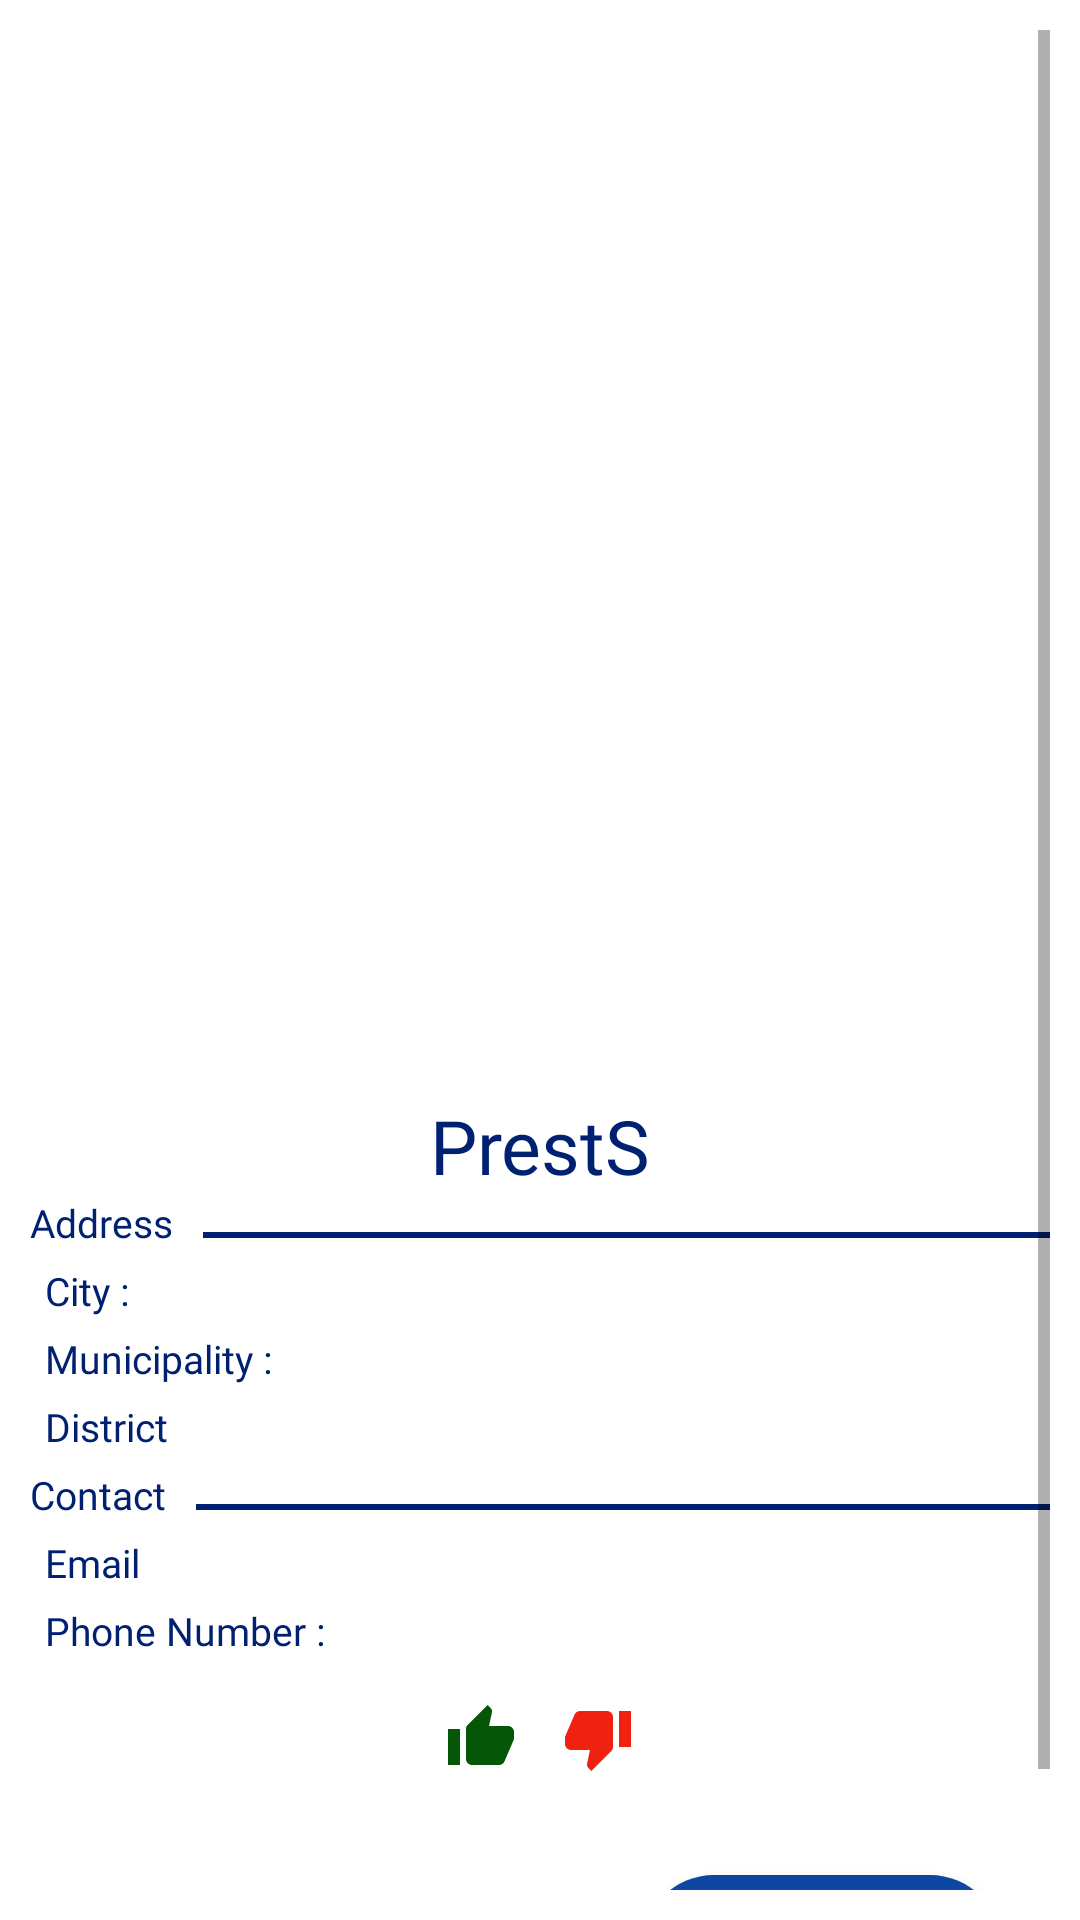

Icon click points for this 1080px×1920px phone screenshot, format (x,y):
like: (481,1735)
unlike: (598,1741)
